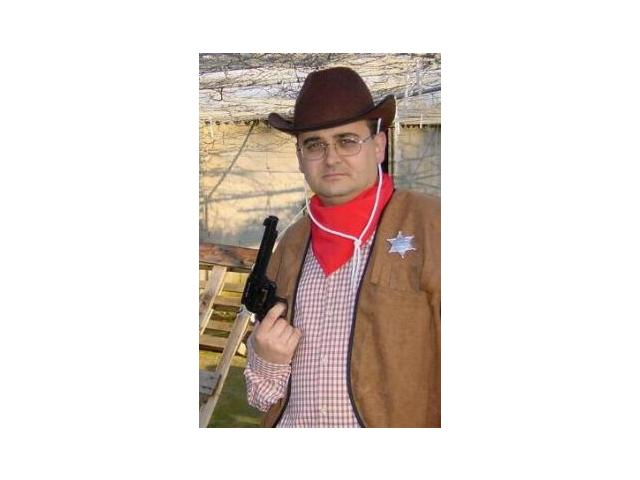pistol: (239, 215, 299, 338)
